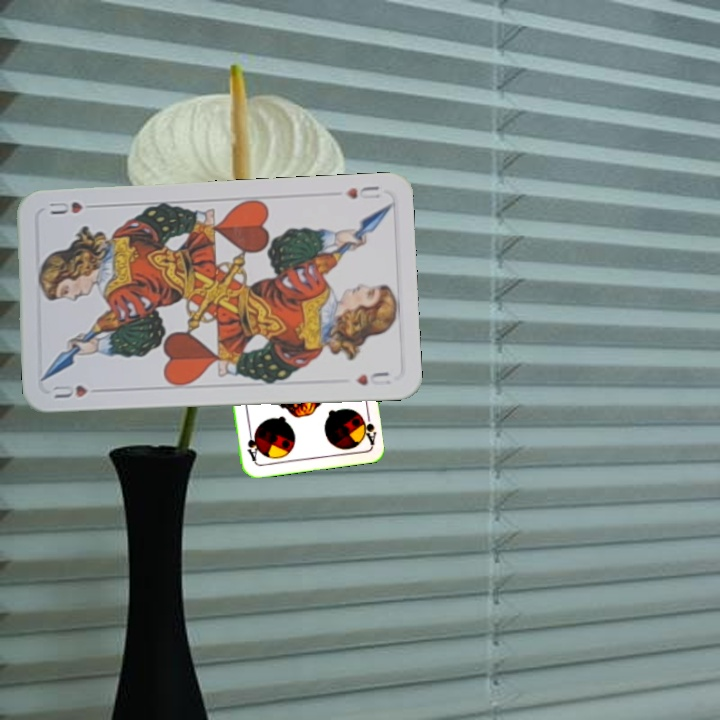HU: (48, 381, 90, 401), (342, 181, 382, 202)
SA: (357, 406, 379, 446)
